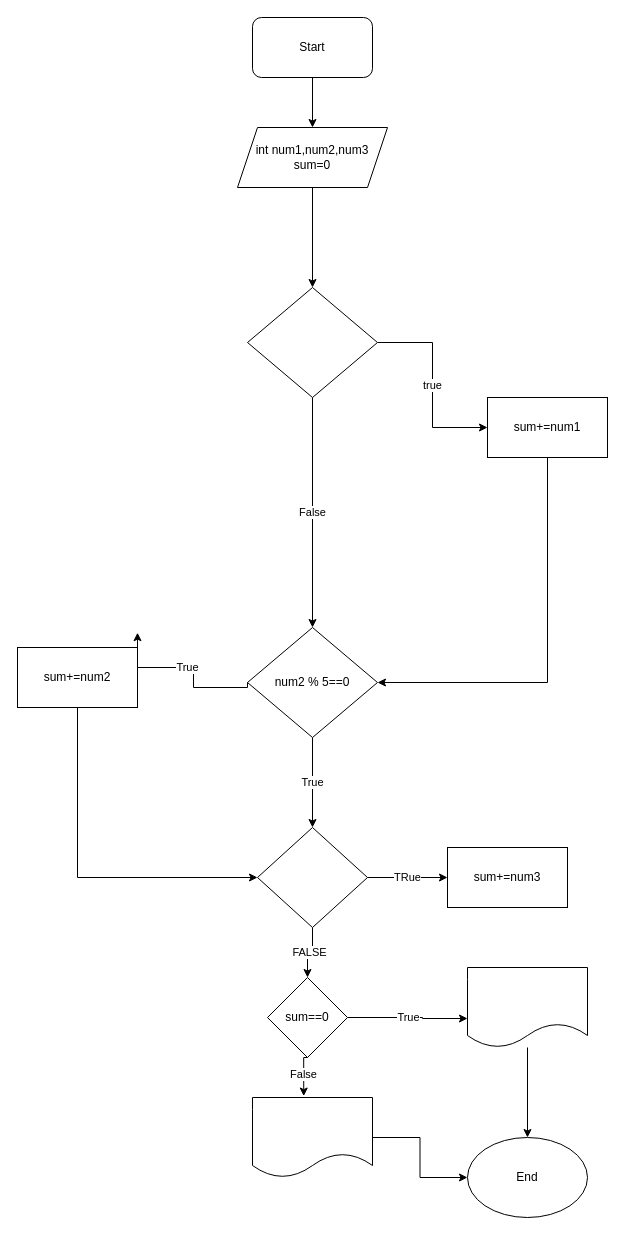
Image size: 625x1235. Some labels were removed from this diagram. Each missing label, with the box of its shape:
5 e bolunen eded yoxdur: (466, 966, 588, 1048)
num1 %5==0: (246, 286, 378, 398)
num3 % 5==0: (256, 826, 368, 928)
Sum: (252, 1096, 372, 1178)
